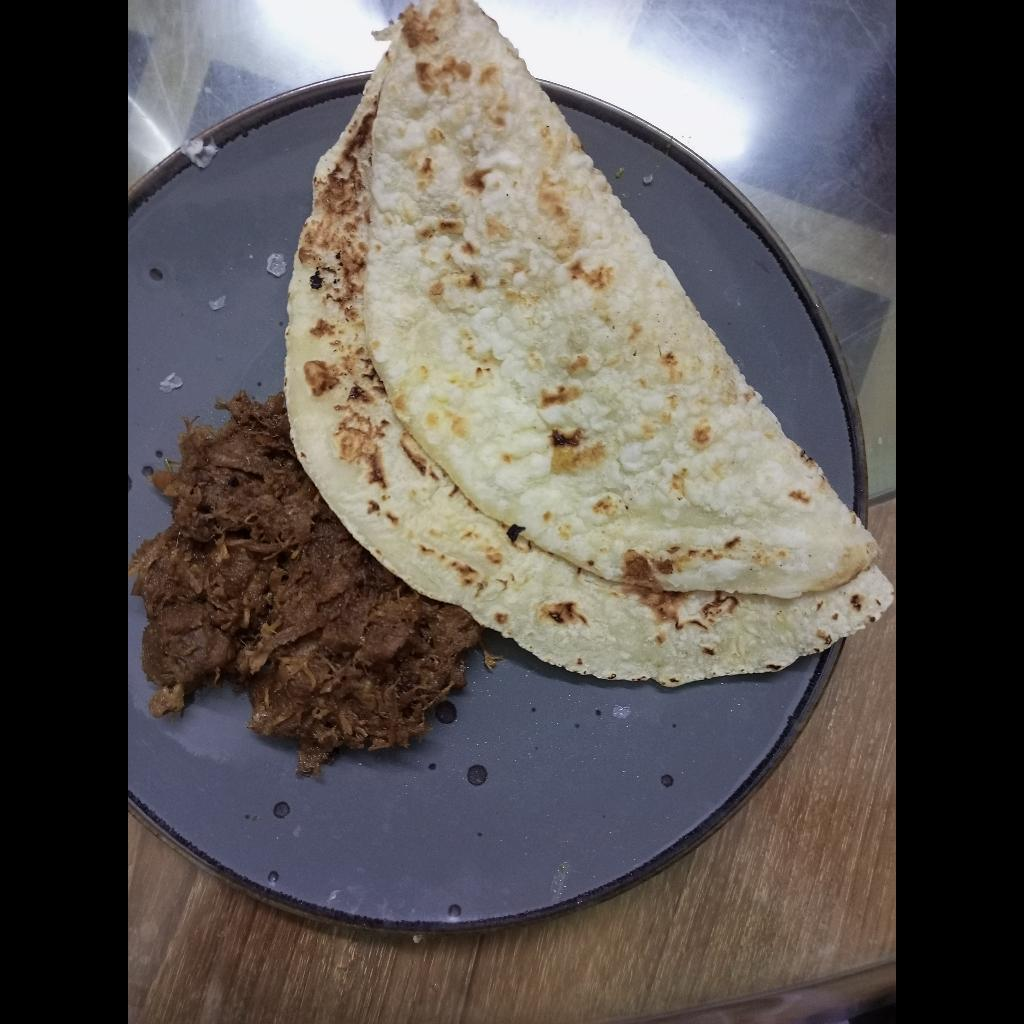beef: (128, 395, 480, 763)
ruti: (283, 0, 896, 687)
